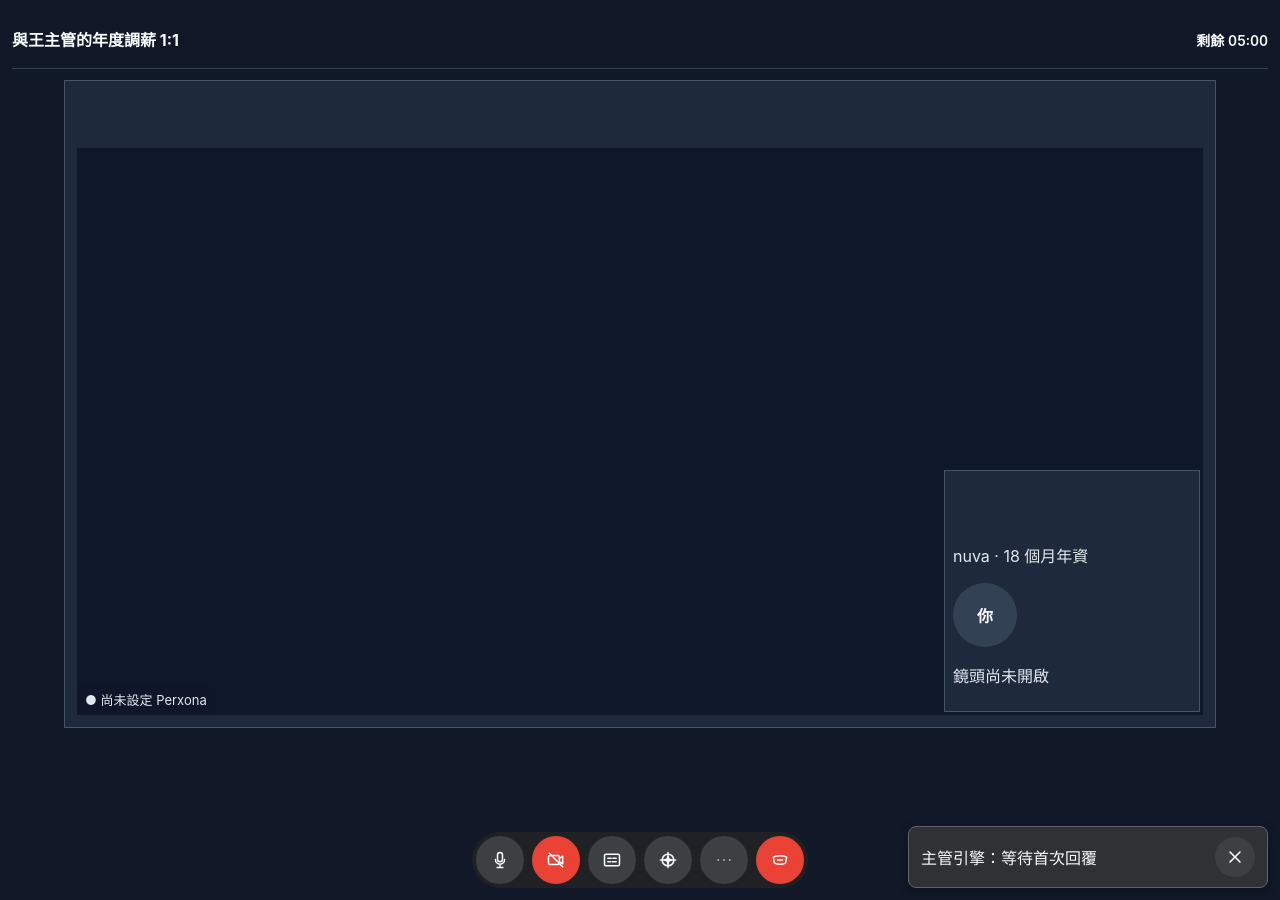
it: formats five minute half-minute pressure offsets without decimal minutes
Click the button named "開啟壓力事件": (668, 860) [644,836,692,884]
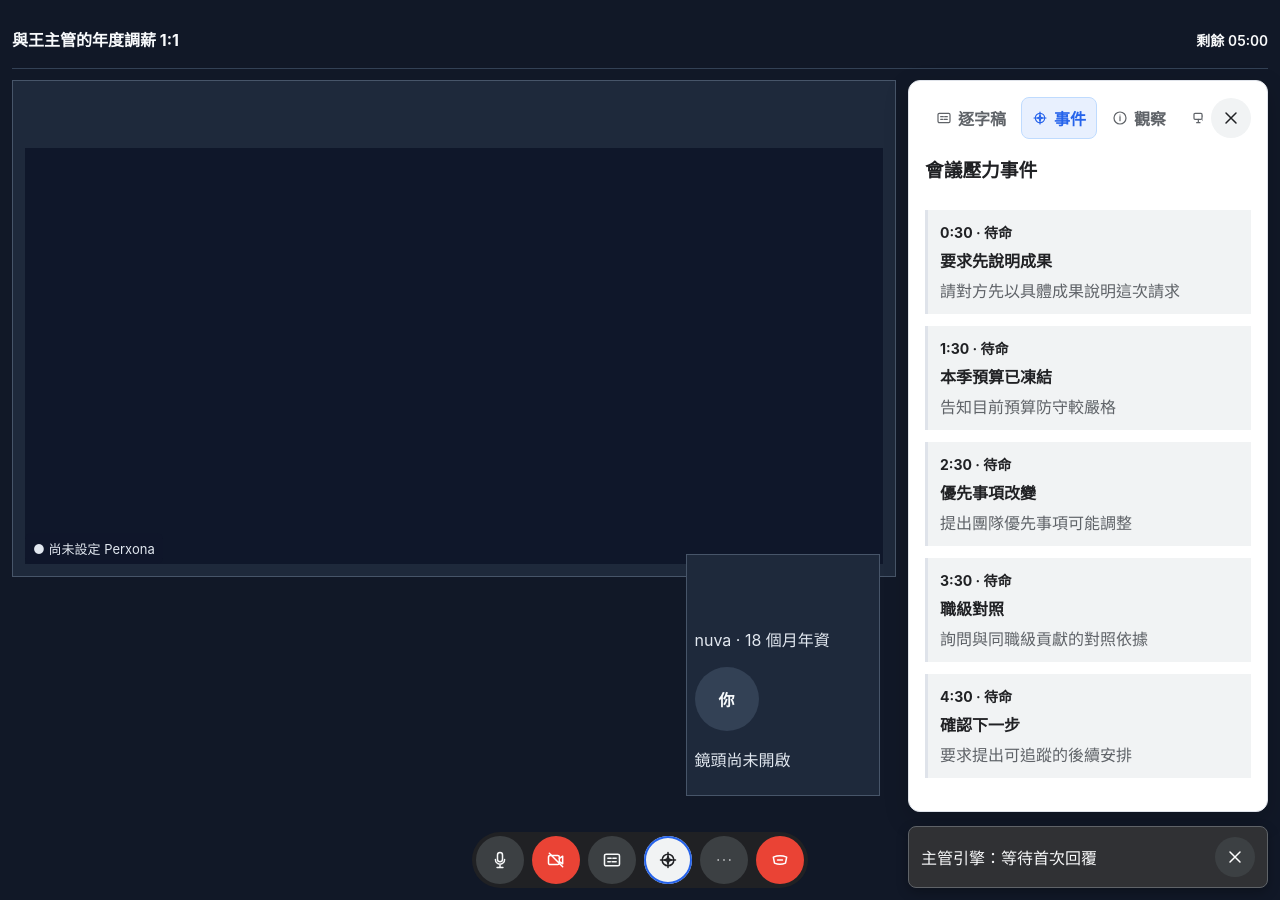
Expected: the text "0:30 · 待命" is shown, [940,224,1012,241]
Expected: the text "1:30 · 待命" is shown, [940,340,1008,357]
